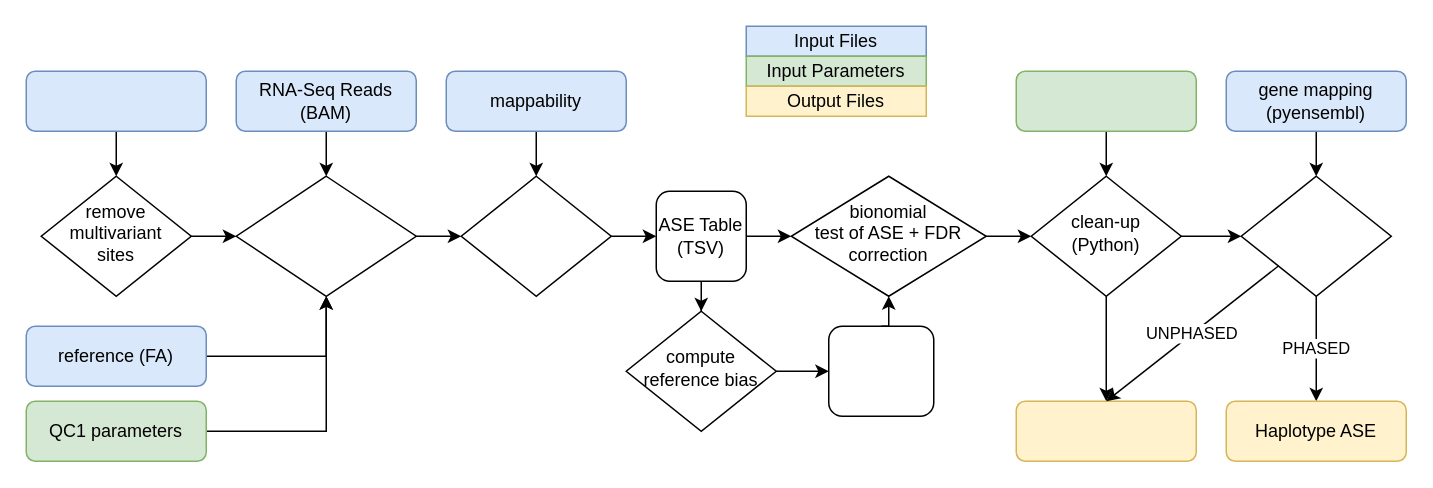
Some shapes in this 1433 by 488 pixel diagram are drawn without their labels. The centre of each missing label's shape, as x and y in pixels:
"bedtools" goes at point 535,235.
"binomial distribution mean" goes at point 880,370.
"GATK ASEReadCounter" goes at point 325,235.
"het-SNPs (VCF)" goes at point 115,100.
"mapping to genes" goes at point 1315,235.
"QC2 parameters" goes at point 1105,100.
"Variant ASE" goes at point 1105,430.
